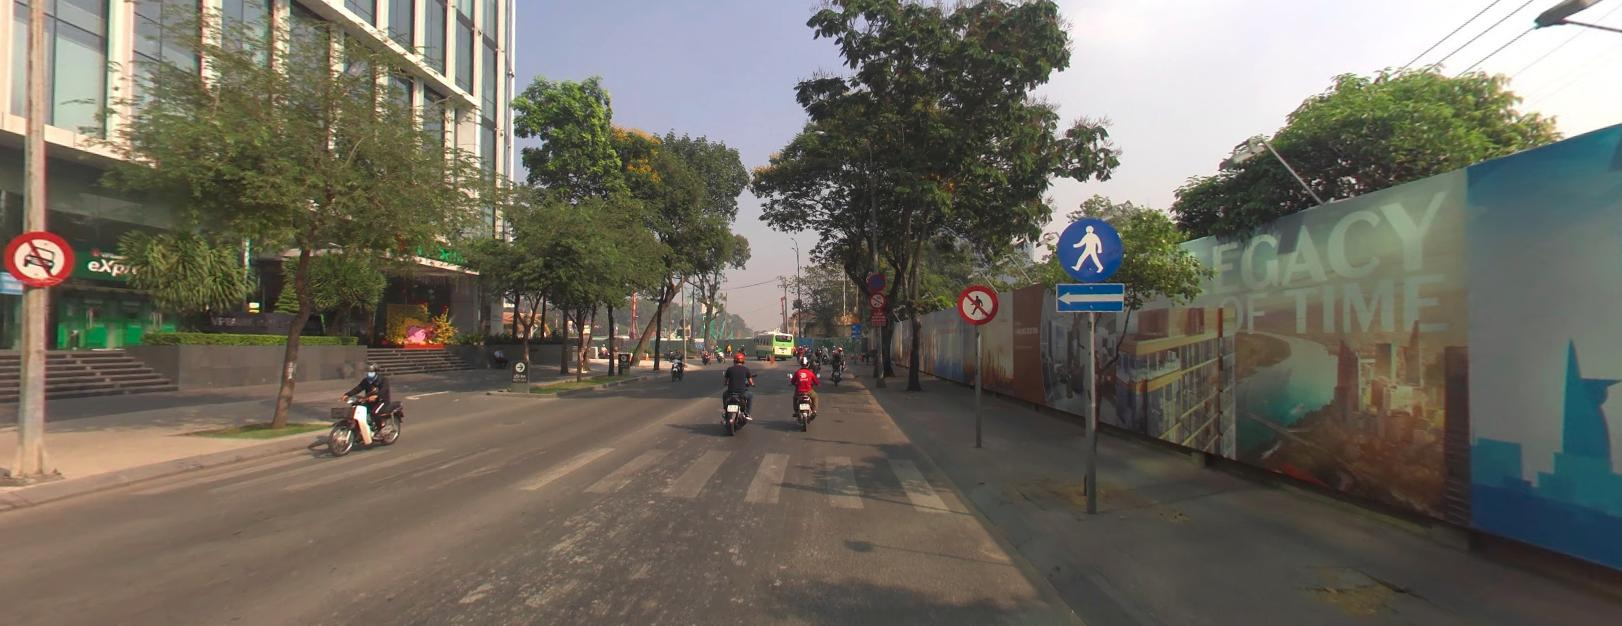Cam con lai: (3, 229, 73, 284), (957, 284, 997, 322), (869, 290, 885, 306)
Cam dung va do: (868, 272, 885, 288)
Hieu lenh: (1058, 215, 1122, 281)
Nguy hiem: (851, 314, 860, 321)
